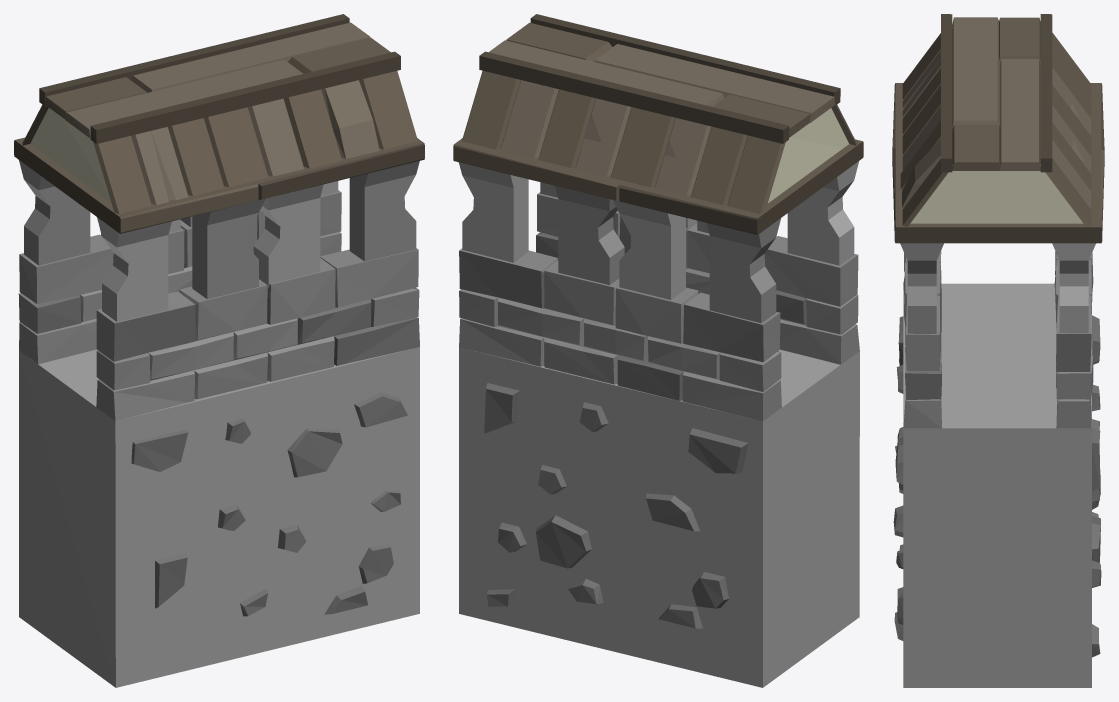
Rendered from _WALL_02_1.fbx.
3 renders of one model, left to right at view 1: azimuth 30°, elevation 25°; view 2: azimuth 150°, elevation 25°; view 3: azimuth 270°, elevation 25°, orthographic. The views are drawn at different scales.
Parts seen in each view (by area): view 1: WALL_02_01; view 2: WALL_02_01; view 3: WALL_02_01.
Boxes of the visible parts, bbox=[...] form: WALL_02_01: bbox=[14, 14, 424, 687]; WALL_02_01: bbox=[453, 14, 863, 687]; WALL_02_01: bbox=[892, 14, 1104, 687].
Bounding box in the file's own units: 409 × 695 × 252.
